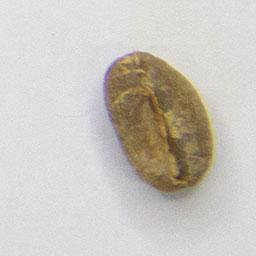longberry: (100, 48, 218, 195)
